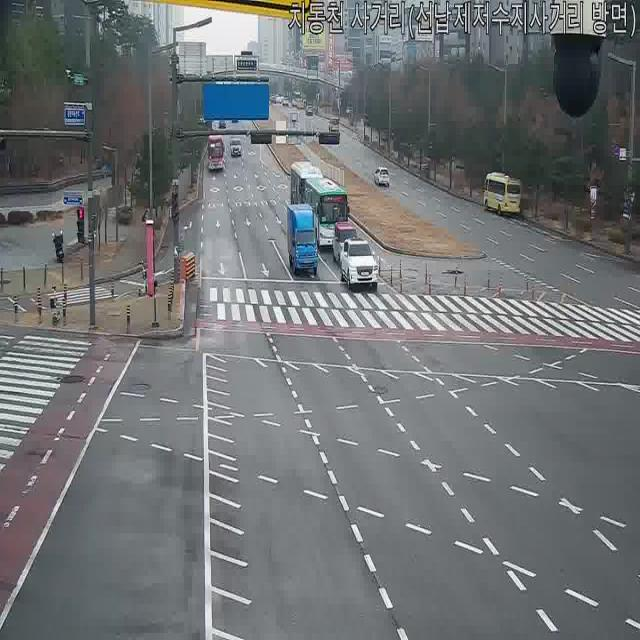Bus: (294, 164, 351, 250), (290, 160, 324, 215), (482, 172, 523, 216), (207, 134, 225, 172)
Car: (339, 238, 378, 290), (482, 172, 523, 216), (331, 223, 361, 269), (332, 223, 361, 265), (372, 165, 392, 186), (229, 139, 243, 158), (328, 116, 340, 136), (291, 89, 305, 106), (215, 114, 228, 130), (328, 116, 340, 132), (292, 96, 304, 108), (272, 94, 282, 104), (289, 112, 298, 123), (305, 105, 314, 116), (282, 98, 290, 107)
Truck: (288, 204, 320, 279)
